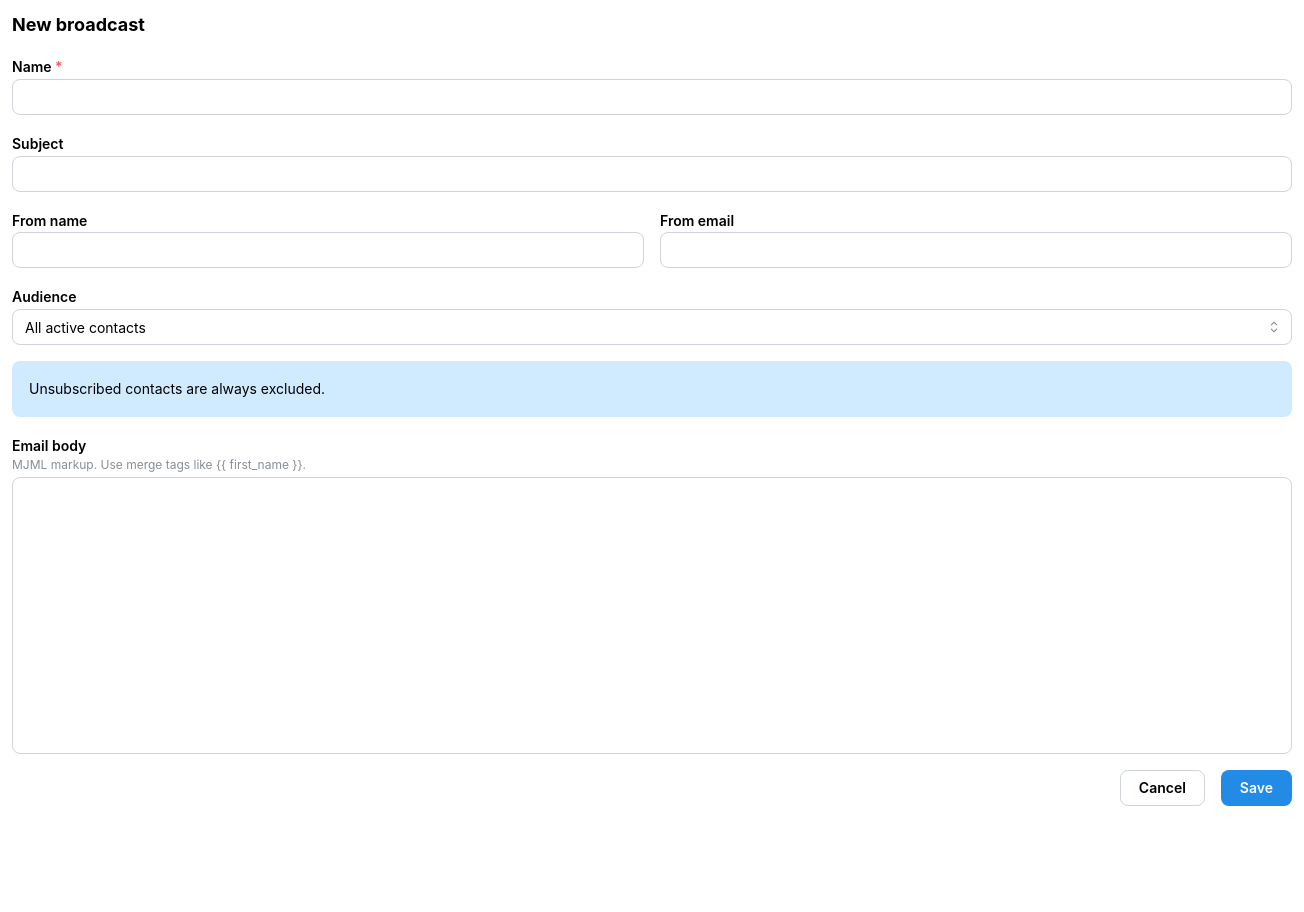
a template without a subject keeps the subject already typed
The image size is (1304, 912).
Type "My subject" into the field labelled "Subject" at (652, 174), box left=12, top=156, right=1292, bottom=192
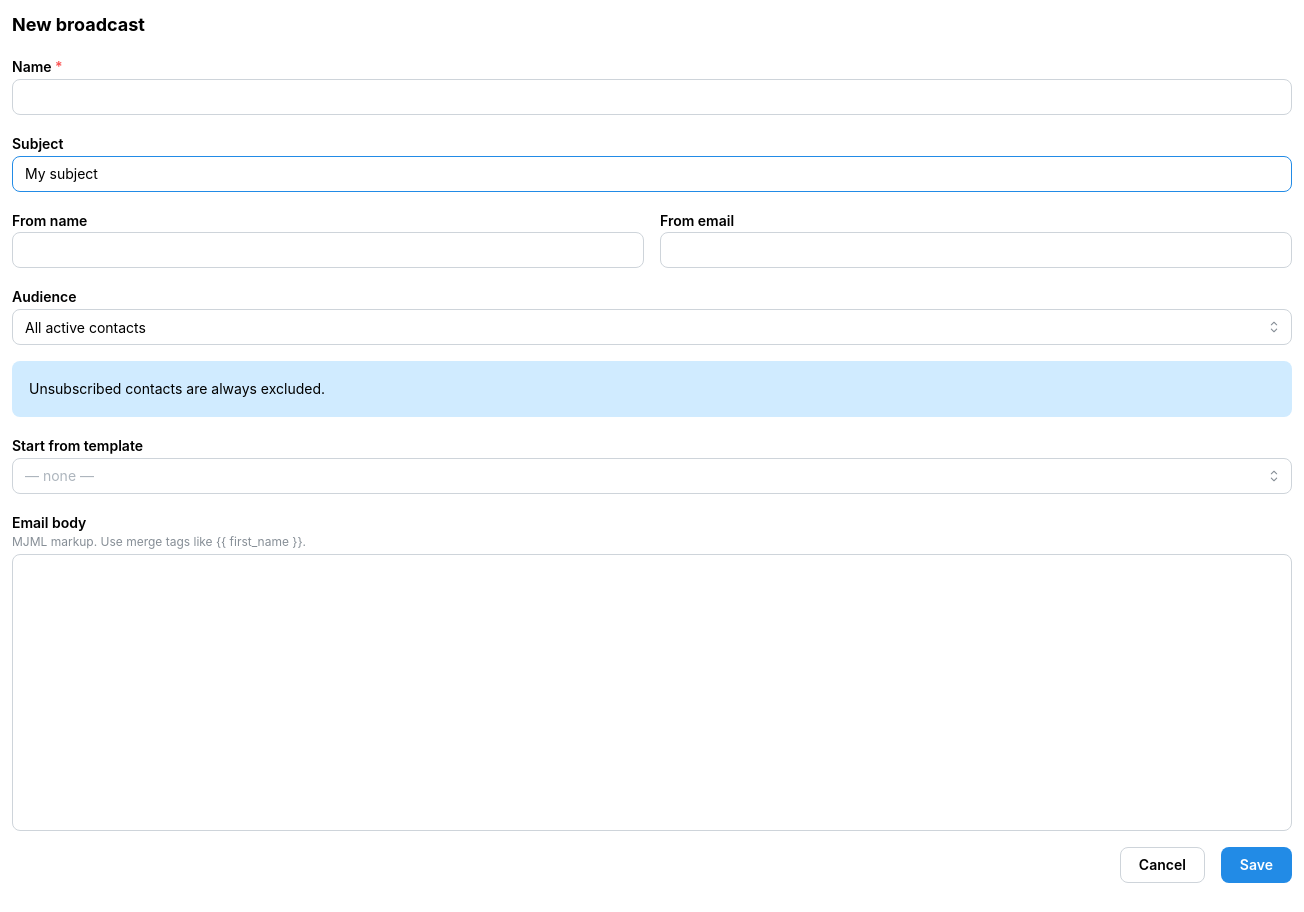
Click the dropdown labelled "Start from template" at (652, 476), box left=12, top=458, right=1292, bottom=494
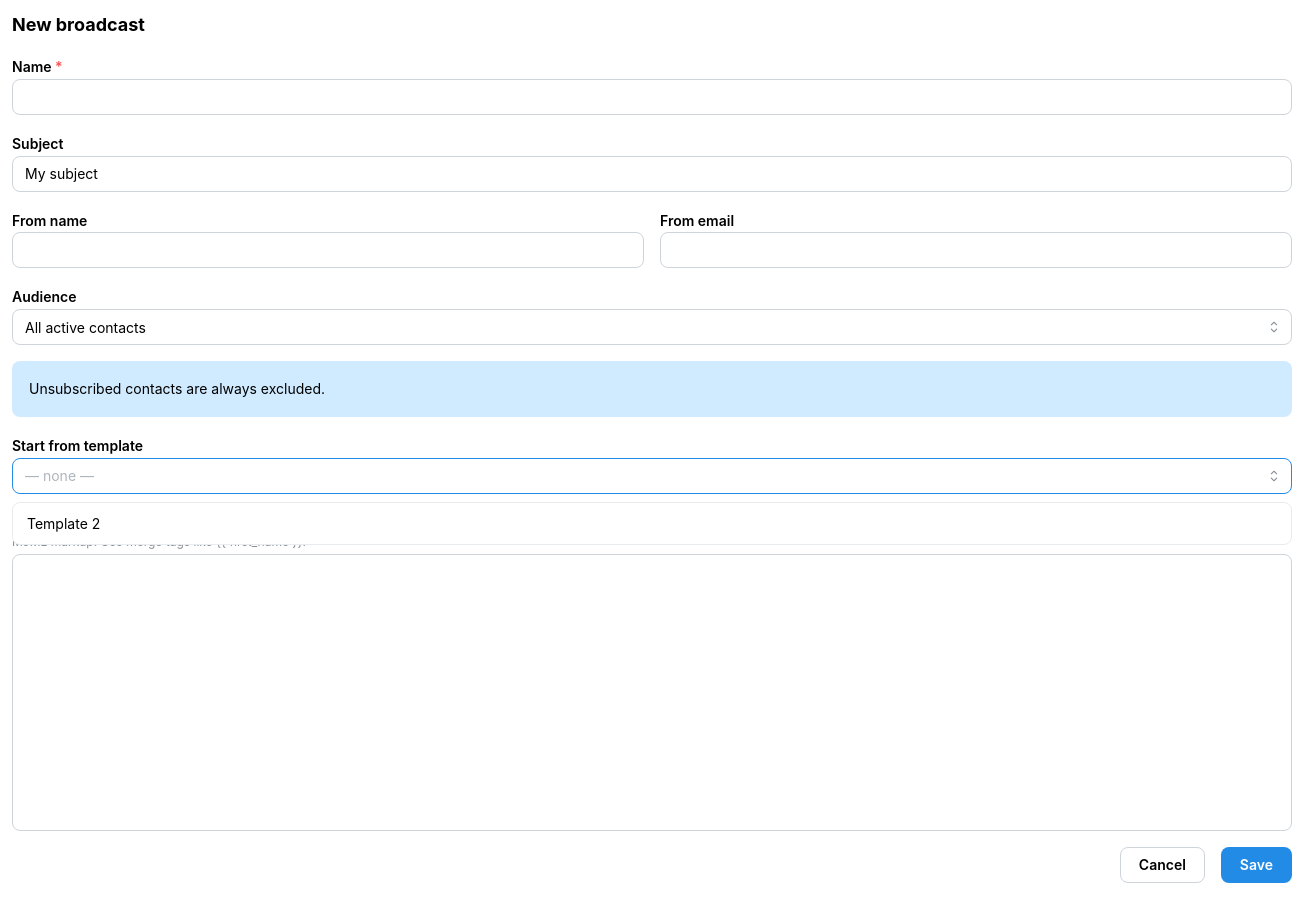
Click the option "Template 2" at (64, 523), box left=27, top=515, right=100, bottom=532
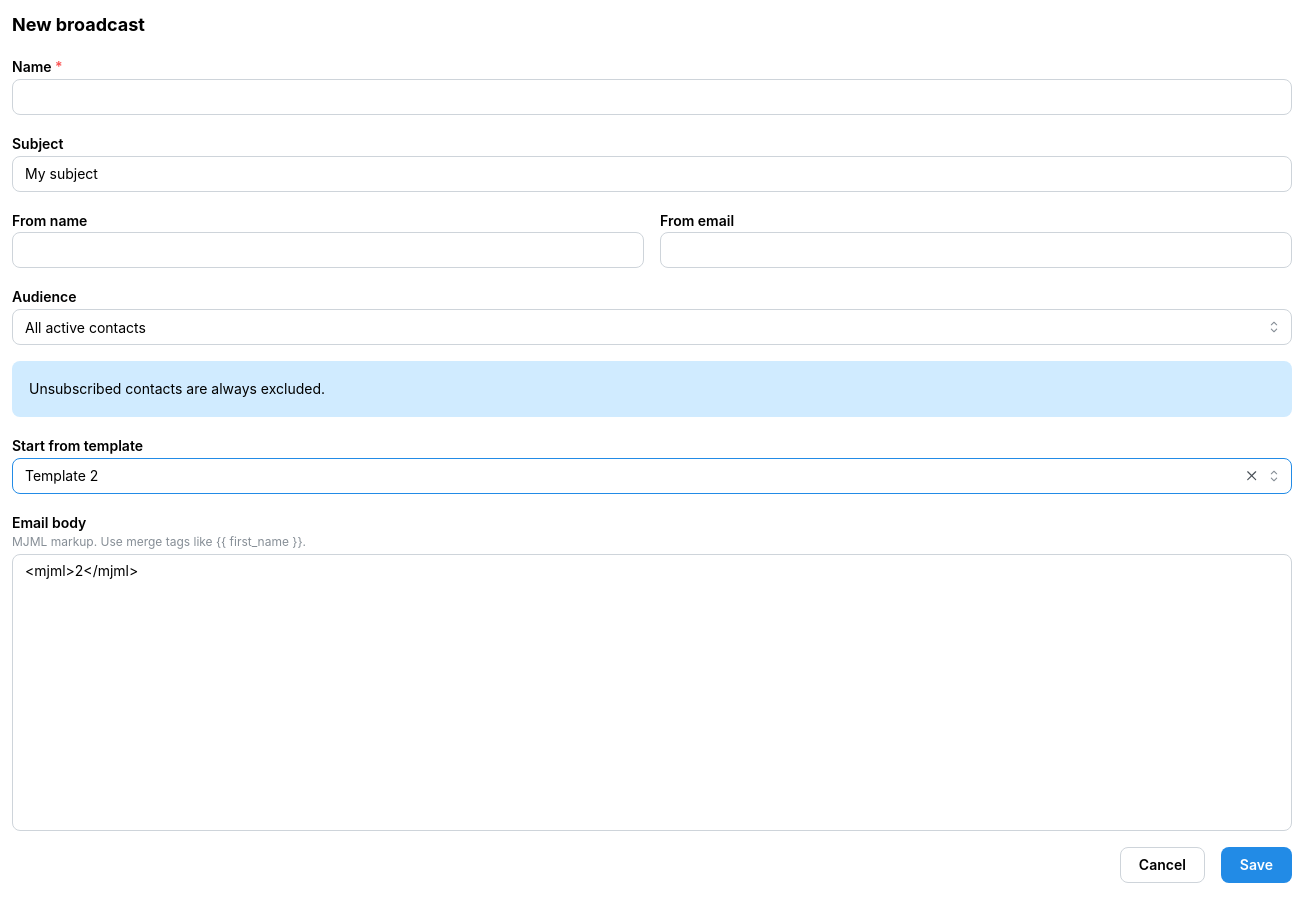
Expected: the text box labelled "Email body" holds "<mjml>2</mjml>", left=12, top=554, right=1292, bottom=831
